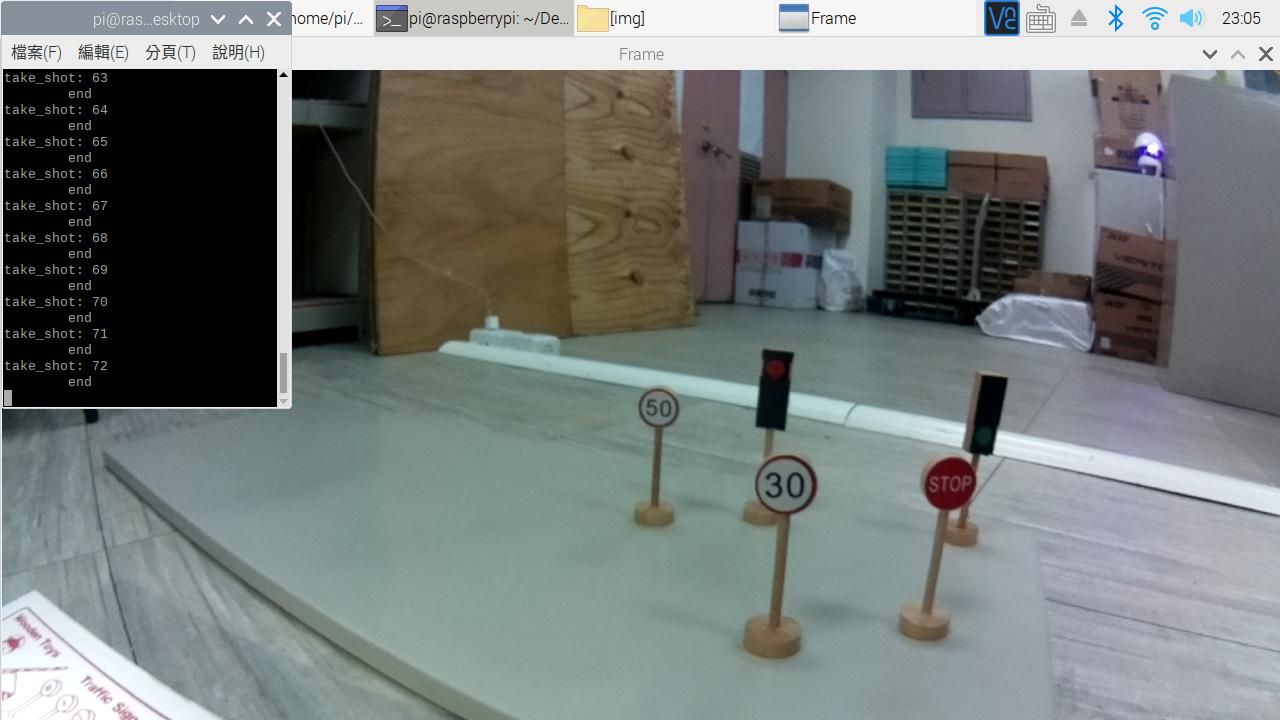Green: (955, 361, 1013, 458)
Red: (743, 343, 812, 435)
Speed30: (751, 453, 832, 523)
Speed50: (632, 385, 687, 433)
Stop: (921, 450, 980, 512)
